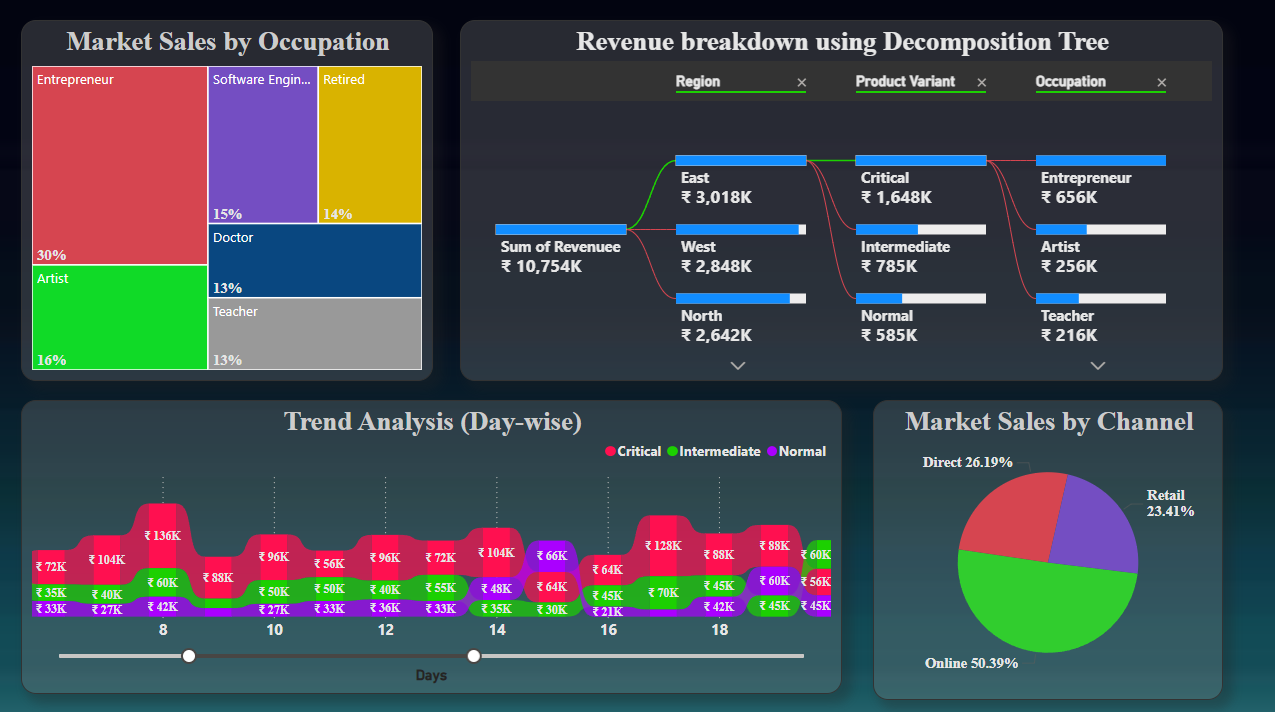

What the dashboard file says about the page in this screenshot:
{"tool":"powerbi","page":{"name":"Page 3","canvas":[1280,720],"ordinal":2},"visuals":[{"type":"pieChart","title":"Market Sales by Channel","fields":{"Category":["Sheet1.Sales Channel"],"Y":["Sum(Sheet1.Revenuee)"]},"box":[873.7,401.9,350.2,300.2],"z":2000},{"type":"treemap","title":"Market Sales by Occupation","fields":{"Values":["Sum(Sheet1.Units Sold)"],"Group":["Sheet1.Occupation"]},"box":[22.4,22.4,411.4,360.5],"z":4000},{"type":"ribbonChart","title":"Trend Analysis (Day-wise)","fields":{"Category":["Sheet1.Purchase Date.Variation.Date Hierarchy.Month","Sheet1.Purchase Date.Variation.Date Hierarchy.Day"],"Series":["Sheet1.Product Variant"],"Y":["Sum(Sheet1.Purchase Price (INR))"]},"box":[22.4,401.9,820.3,294.1],"z":8000},{"type":"decompositionTreeVisual","title":"Revenue breakdown using Decomposition Tree","fields":{"Analyze":["Sum(Sheet1.Revenuee)"],"ExplainBy":["Sheet1.Region","Sheet1.Product Variant","Sheet1.Occupation"]},"box":[461.5,22.4,762.5,360.5],"z":9000}]}

Visuals, with their boxes in screenshot pixels (x1, y1, x2, y2), scaled from the page's 1280x720 canvas onto the 1275x712 screenshot:
"Market Sales by Channel" pieChart: locate(870, 397, 1219, 694)
"Market Sales by Occupation" treemap: locate(22, 22, 432, 379)
"Trend Analysis (Day-wise)" ribbonChart: locate(22, 397, 839, 688)
"Revenue breakdown using Decomposition Tree" decompositionTreeVisual: locate(460, 22, 1219, 379)
